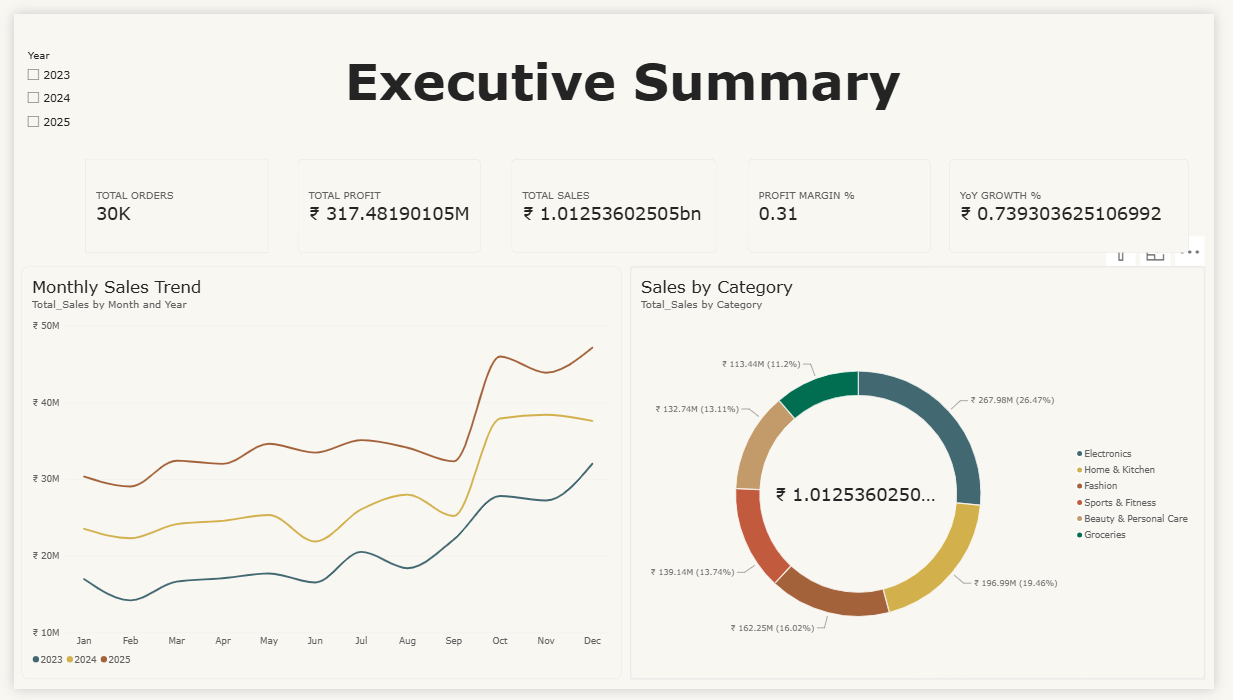

This screenshot's page, from the dashboard's own definition file:
{"tool":"powerbi","page":{"name":"executive summary","canvas":[1920,1080],"ordinal":0},"visuals":[{"type":"lineChart","title":"Monthly Sales Trend","fields":{"Category":["Dim_Date.MonthName"],"Series":["Dim_Date.Year"],"Y":["_Measures.Total_Sales"]},"box":[12.5,404.1,960,660],"z":0},{"type":"donutChart","title":"Sales by Category","fields":{"Category":["Dim_Product.Category"],"Y":["_Measures.Total_Sales"]},"box":[987,404.1,919.1,659.8],"z":1000},{"type":"cardVisual","fields":{"Data":["_Measures.Total_Orders"]},"box":[114.4,232.4,293.2,150.2],"z":2000},{"type":"cardVisual","fields":{"Data":["_Measures.YoY_Growth_Per"]},"box":[1496.6,232.4,384.4,150.2],"z":3000},{"type":"cardVisual","fields":{"Data":["_Measures.Profit_Margin_Per"]},"box":[1174.7,232.4,293.2,150.2],"z":4000},{"type":"cardVisual","fields":{"Data":["_Measures.Total_Sales"]},"box":[795.7,232.4,329,150.2],"z":5000},{"type":"cardVisual","fields":{"Data":["_Measures.Total_Profit"]},"box":[454.2,232.4,293.2,150.2],"z":6000},{"type":"textbox","box":[209.2,55.4,1528.8,150.2],"z":7000},{"type":"slicer","fields":{"Values":["Dim_Date.Year"]},"box":[13,55,196,150],"z":7001}]}

Visuals, with their boxes in screenshot pixels (x1, y1, x2, y2), scaled from the page's 1920x1080 canvas onto the 1233x700 screenshot:
"Monthly Sales Trend" lineChart: detection(8, 262, 625, 690)
"Sales by Category" donutChart: detection(634, 262, 1224, 690)
cardVisual - _Measures.Total_Orders: detection(73, 151, 262, 248)
cardVisual - _Measures.YoY_Growth_Per: detection(961, 151, 1208, 248)
cardVisual - _Measures.Profit_Margin_Per: detection(754, 151, 943, 248)
cardVisual - _Measures.Total_Sales: detection(511, 151, 722, 248)
cardVisual - _Measures.Total_Profit: detection(292, 151, 480, 248)
textbox: detection(134, 36, 1116, 133)
slicer - Dim_Date.Year: detection(8, 36, 134, 133)
